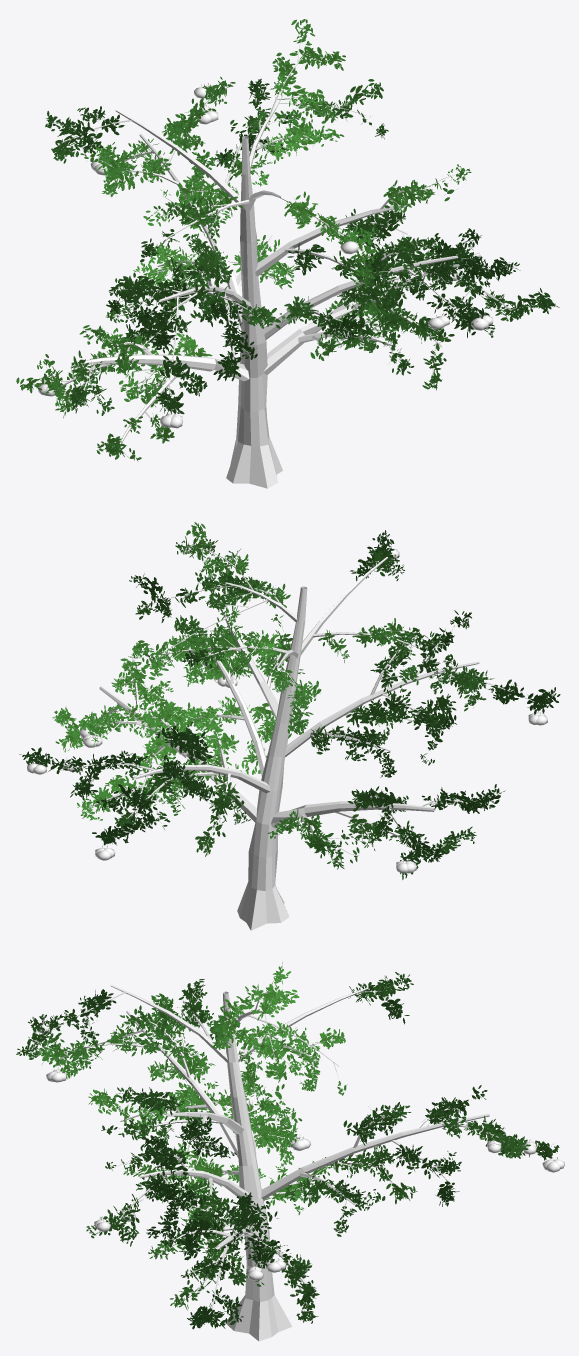
The model's file is elma_agaci.glb.
3 renders of one model, top to bottom at view 1: azimuth 30°, elevation 25°; view 2: azimuth 150°, elevation 25°; view 3: azimuth 270°, elevation 25°, orthographic. The views are drawn at different scales.
Visible parts, largest first — view 1: AppleTree_Leaves, AppleTree_Wood, AppleTree_Apples; view 2: AppleTree_Leaves, AppleTree_Wood, AppleTree_Apples; view 3: AppleTree_Leaves, AppleTree_Wood, AppleTree_Apples.
Part boxes in pixels (x1=…): AppleTree_Leaves: x1=16, y1=19, x2=559, y2=461; AppleTree_Wood: x1=33, y1=33, x2=538, y2=488; AppleTree_Apples: x1=38, y1=83, x2=493, y2=428; AppleTree_Leaves: x1=19, y1=522, x2=560, y2=879; AppleTree_Wood: x1=34, y1=532, x2=547, y2=930; AppleTree_Apples: x1=27, y1=545, x2=547, y2=873; AppleTree_Leaves: x1=16, y1=962, x2=559, y2=1329; AppleTree_Wood: x1=31, y1=977, x2=544, y2=1341; AppleTree_Apples: x1=37, y1=1020, x2=564, y2=1280.
Bounding box in the file's own units: 4.45 × 3.67 × 4.68.
Materials: 4 (1 with a texture image).
